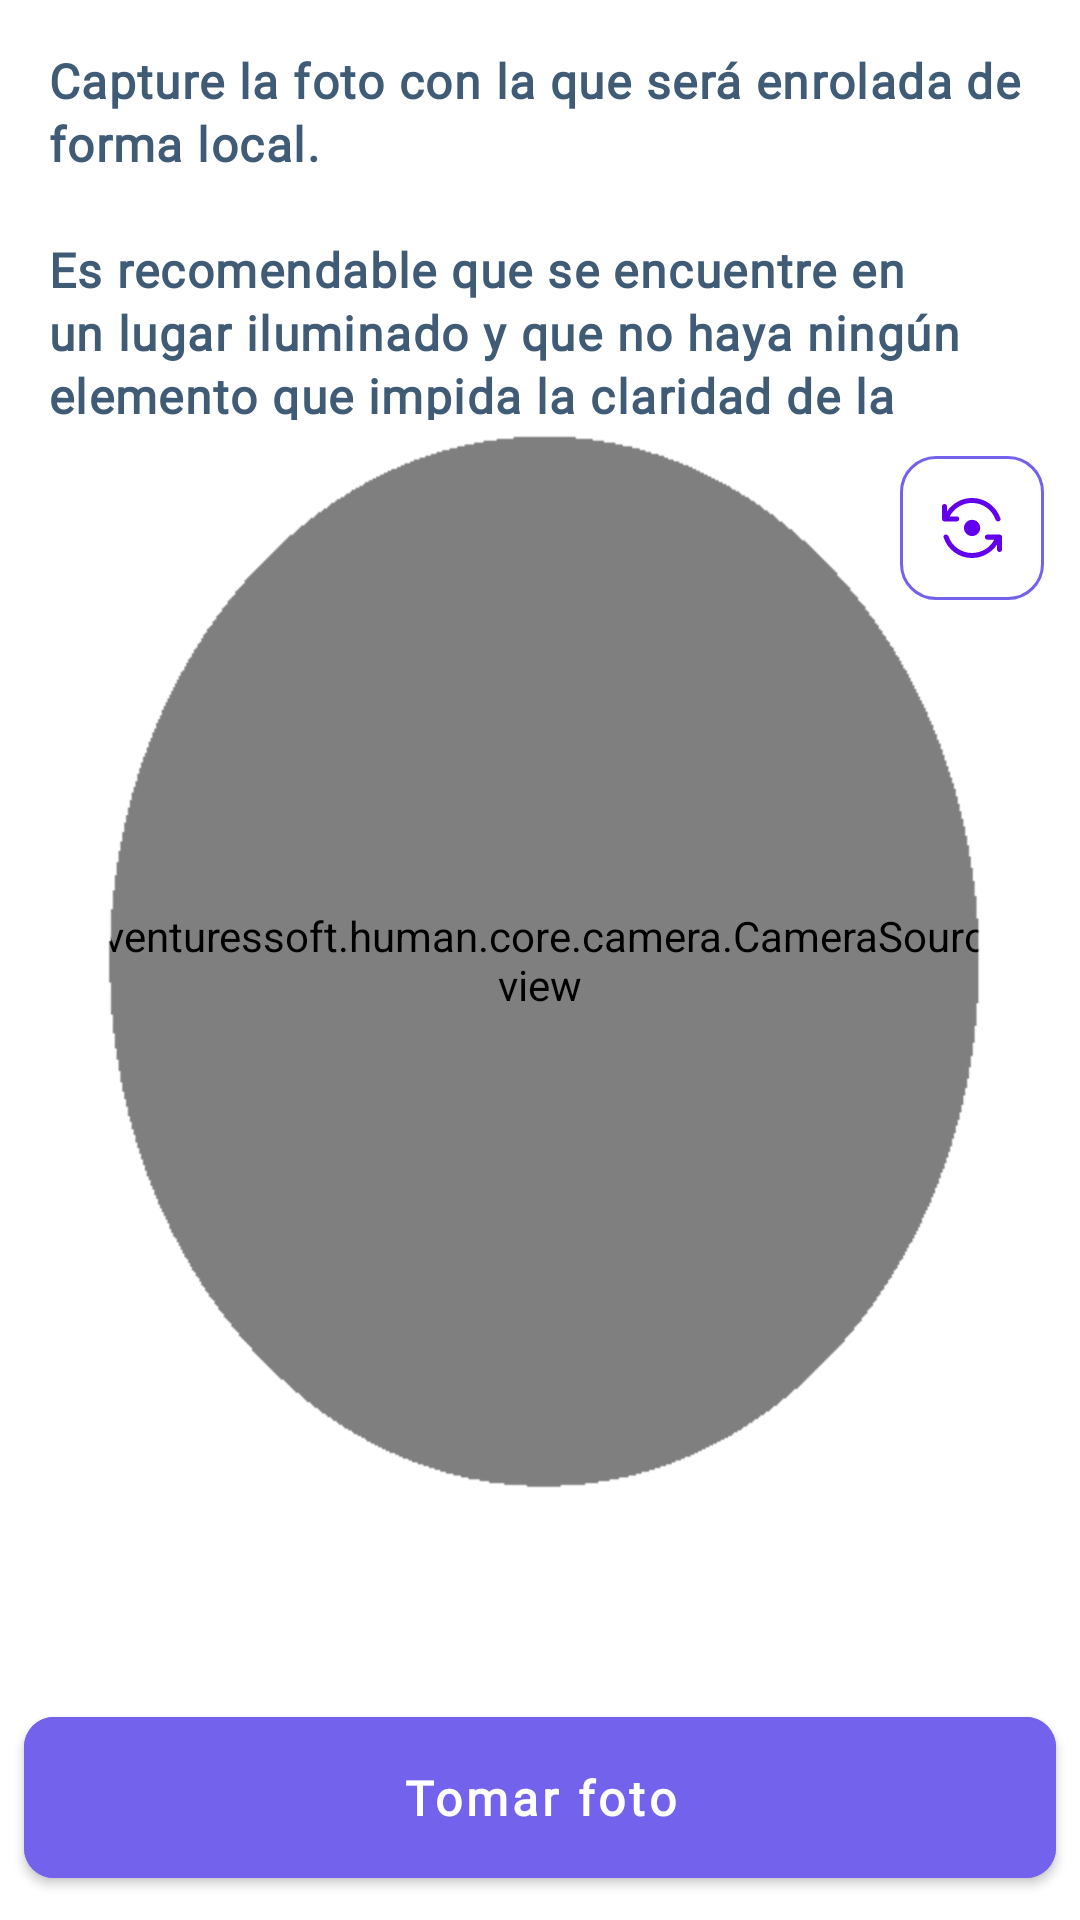

Screen size 1080×1920. Icon name, then its center in pixels as (x,y):
change camera: (972,528)
